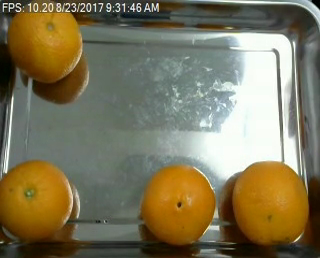Orange: (231, 161, 310, 245), (140, 164, 217, 243), (1, 159, 73, 239), (7, 12, 83, 83)
